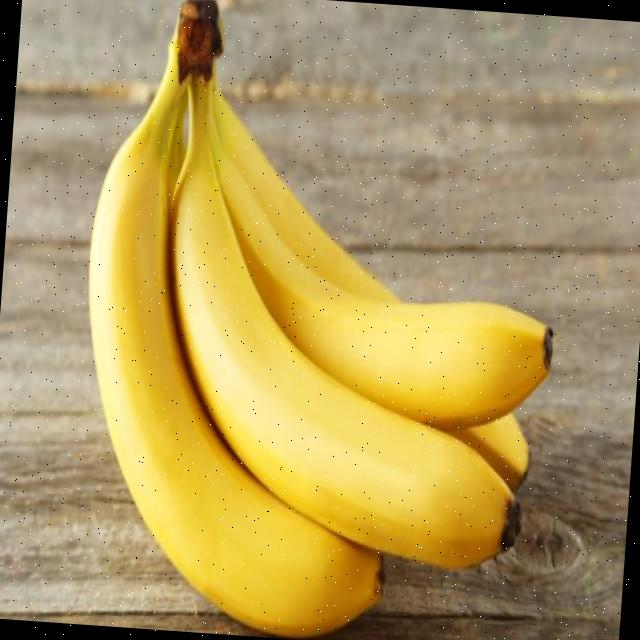Pisang: (62, 0, 575, 640)
